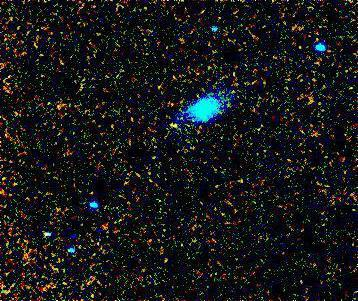star: (158, 112, 188, 142)
